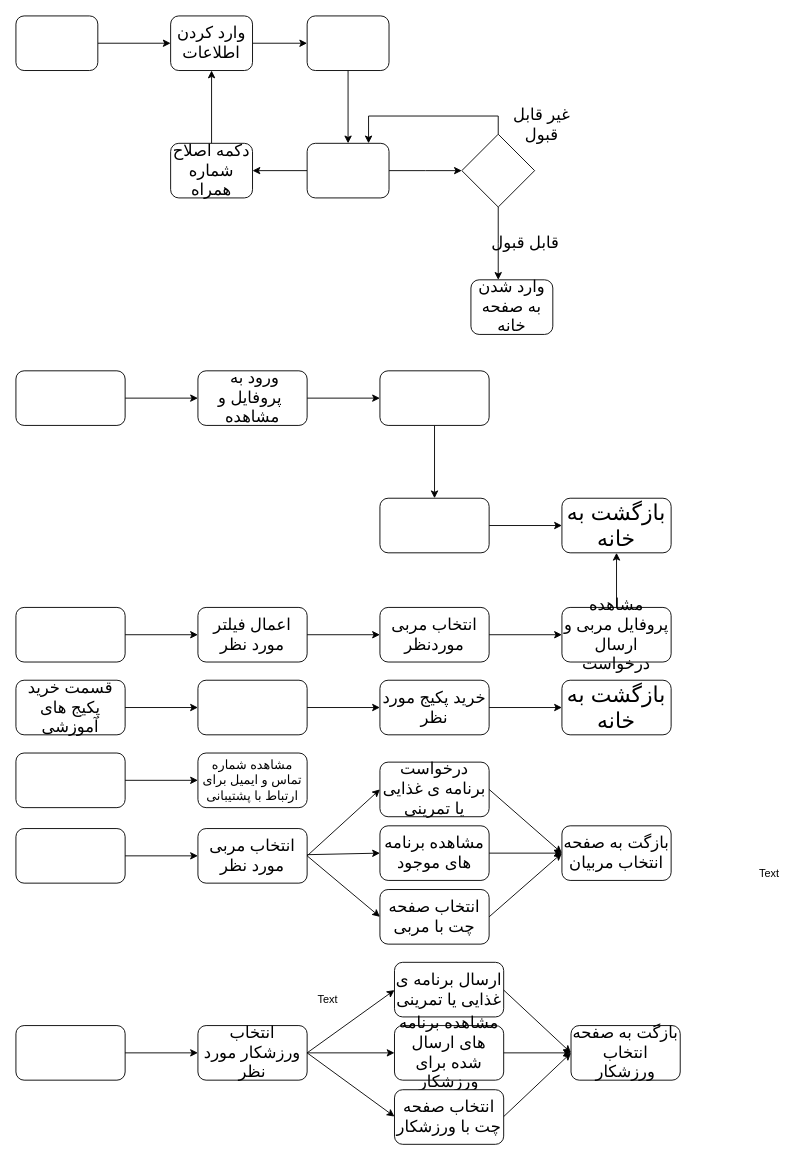
Image size: 810x1160. Some labels were removed from this diagram. The centre of each missing label's shape, as x and y in pixels:
دکمه ورود: point (347, 43)
رفتن به صفحه احراز هویت: point (347, 170)
زدن دکمه ذخیره: point (434, 525)
زدن دکمه پروفایل: point (70, 397)
قسمت جست و جوی مربیان: point (70, 634)
قسمت مربیان در ارتباط: point (70, 855)
قسمت ورزشکاران در ارتباط: point (70, 1052)
مشاهده فهرست پکیج: point (252, 707)
ورود: point (56, 43)
ویرایش یا ورود اطلاعات: point (434, 397)
پشتیبانی: point (70, 780)
